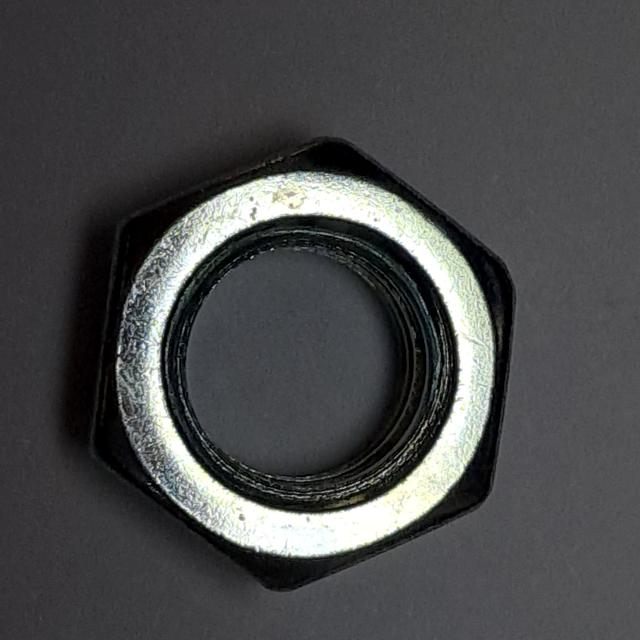Excellent: (76, 128, 533, 604)
